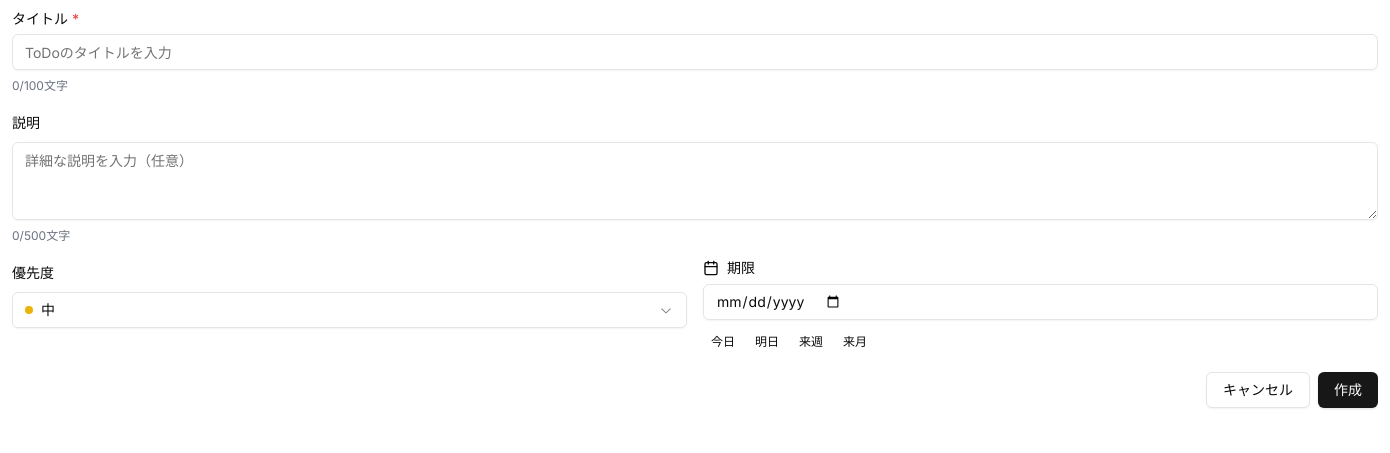
Test case: TodoForm › Validation › shows error when due date is in the past
Type "2024-01-14" into the date field labelled "期限".
click(1040, 302); type("2024-01-14")  # box [703,284,1378,320]
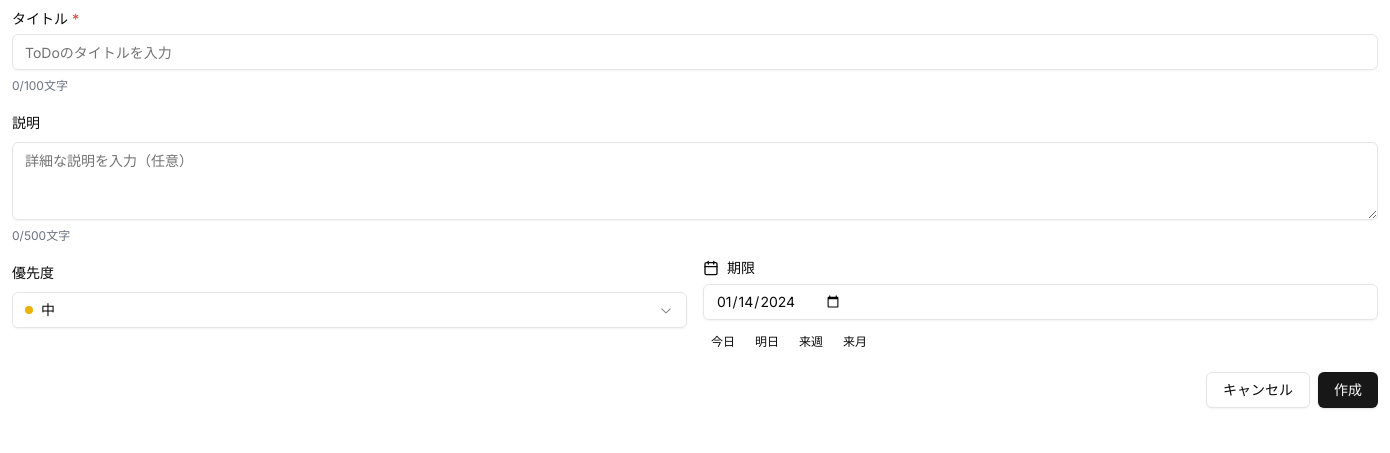
Leave the date field labelled "期限", box [703,284,1378,320]
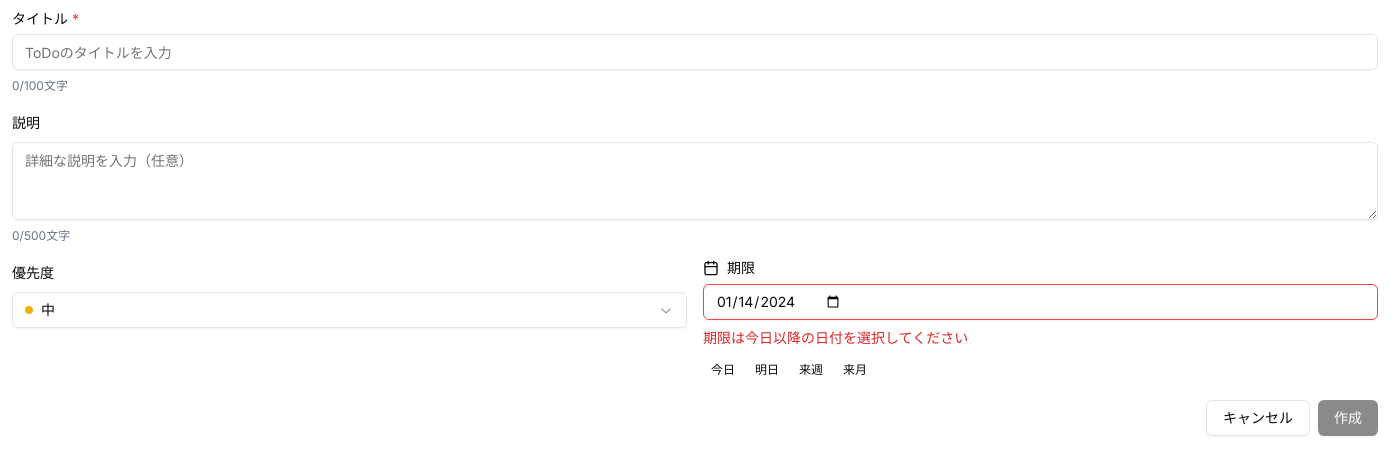
Check: the text "期限は今日以降の日付を選択してください" is shown, box [703,329,968,346]
